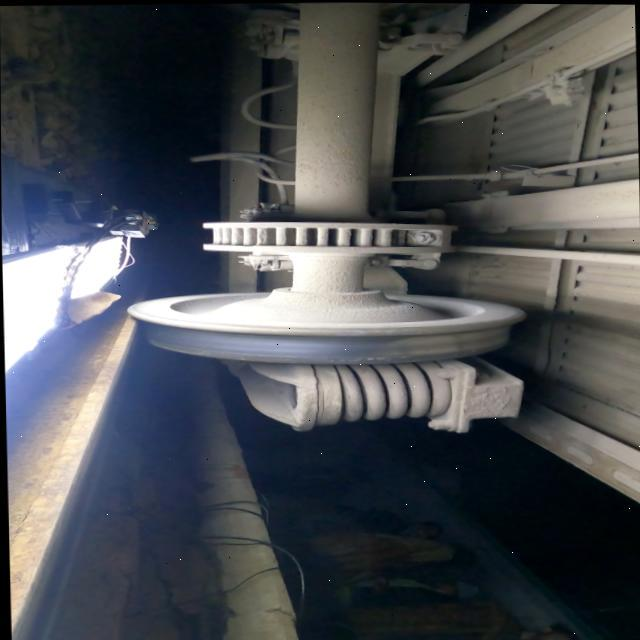Cracks-Scratches: (326, 356, 389, 362)
Shelling: (373, 324, 506, 355)
Wheel: (126, 289, 524, 365)
